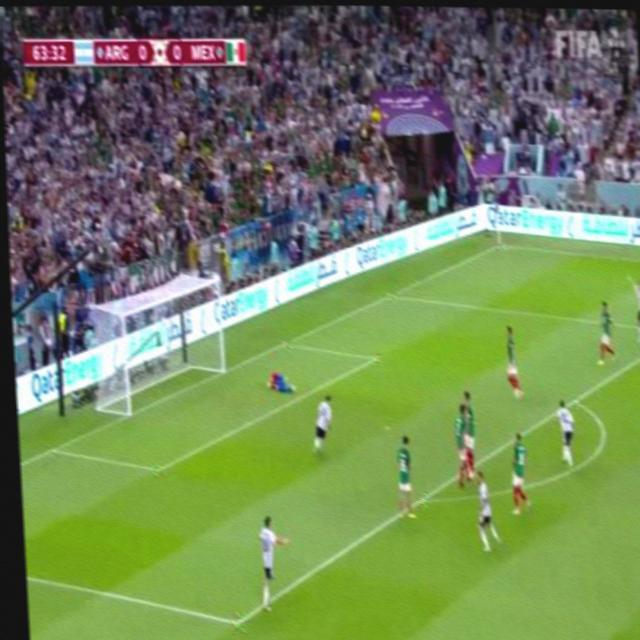bigarea_bottom_inner: (229, 610, 247, 634)
bigarea_top_outter: (386, 290, 397, 302)
bottom_arc_area_intersection: (415, 491, 427, 509)
corner: (494, 242, 507, 249)
smallarea_bottom_inner: (151, 463, 164, 477)
smallarea_bottom_outter: (45, 443, 58, 456)
smallarea_top_inner: (371, 353, 380, 364)
smallarea_top_outter: (278, 338, 292, 348)
top_arc_area_intersection: (568, 394, 582, 409)
